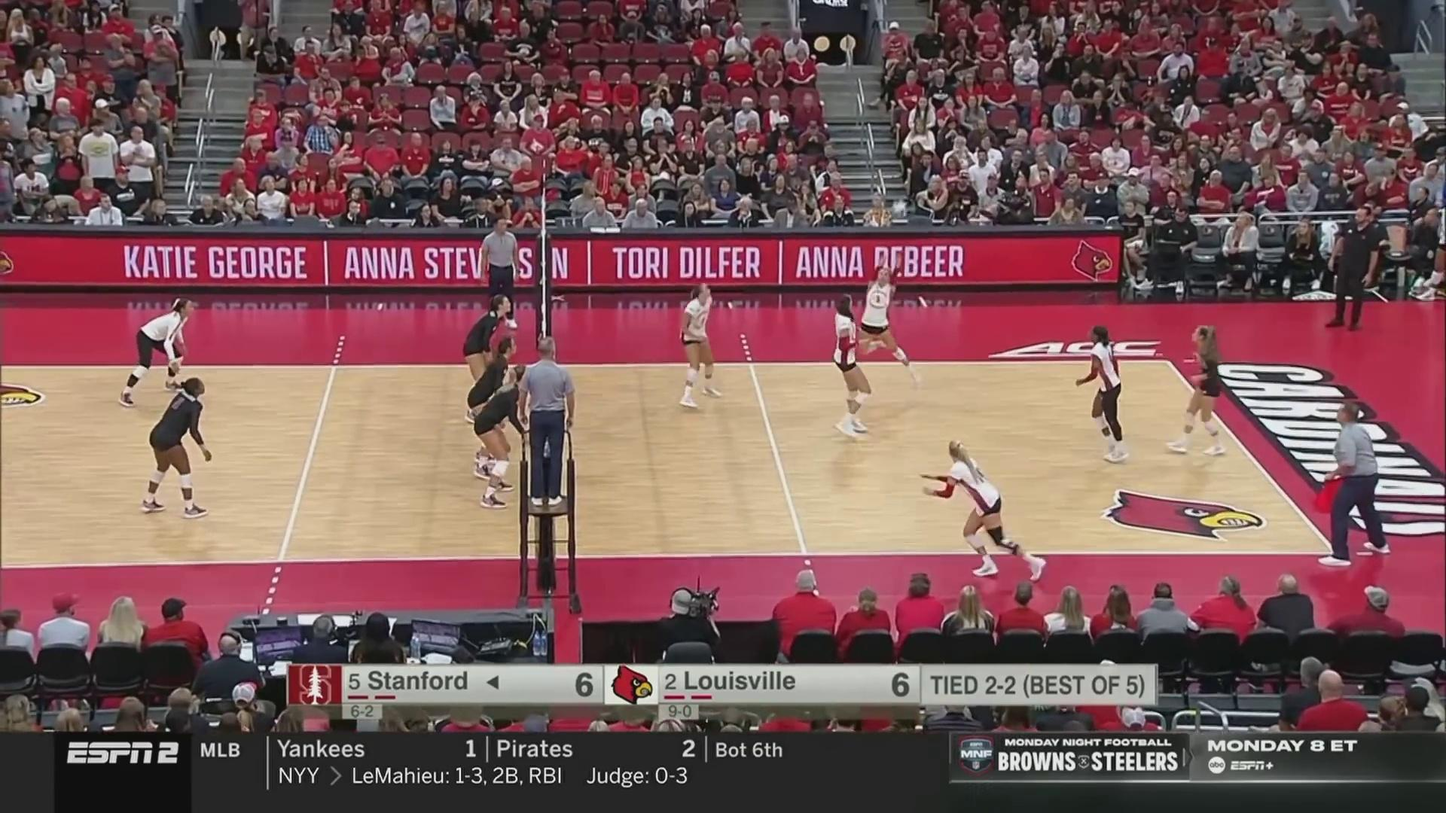player: (924, 442, 1039, 575), (144, 381, 215, 519), (1077, 330, 1138, 464), (850, 264, 915, 384), (470, 329, 519, 479), (477, 363, 527, 504), (465, 292, 514, 429), (127, 309, 196, 404), (676, 282, 727, 410), (826, 294, 871, 437), (1180, 321, 1224, 454)
refree: (1320, 407, 1387, 561), (518, 341, 572, 506), (483, 212, 518, 330)
